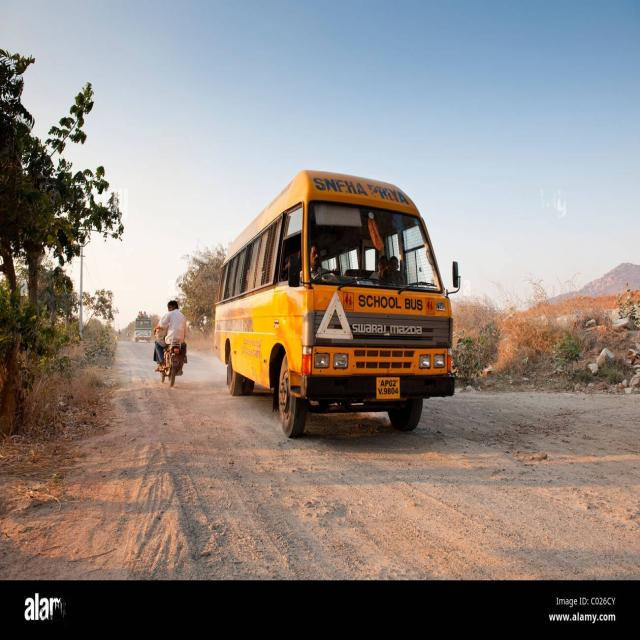bus: (215, 170, 454, 436), (134, 312, 151, 342)
motorcycle: (155, 300, 188, 386)
